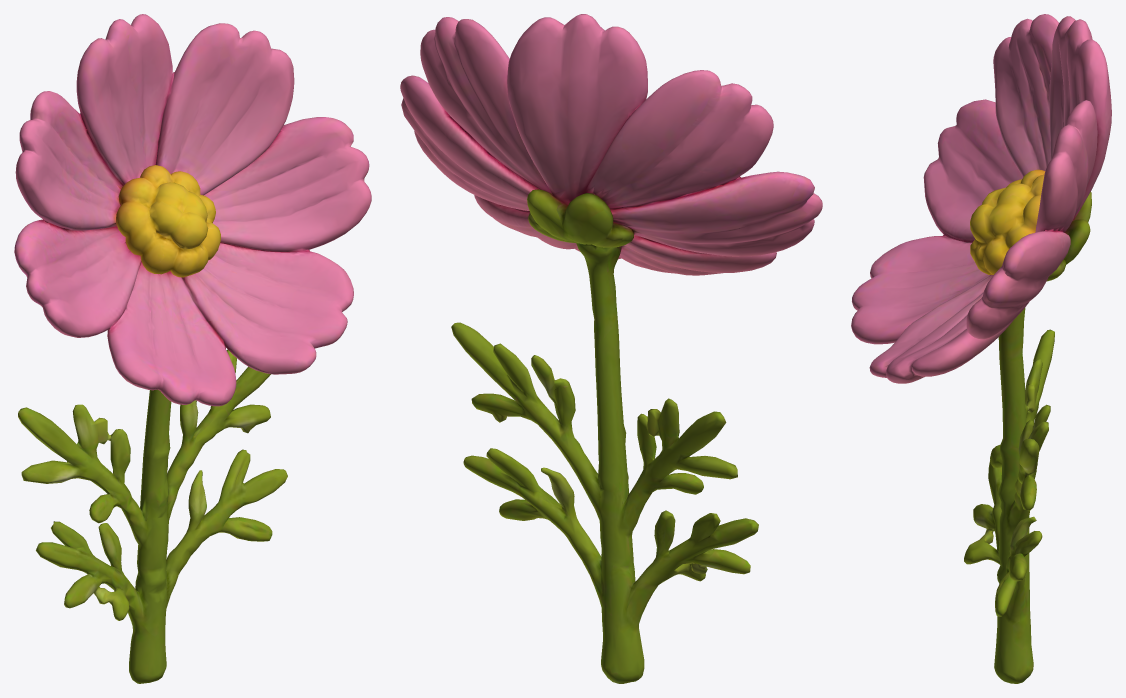
Rendered from cosmos_s5.glb.
3 views of the same model, side by side, from view 1: azimuth 30°, elevation 25°; view 2: azimuth 150°, elevation 25°; view 3: azimuth 270°, elevation 25° (orthographic). The views are drawn at different scales.
Size of the model in its own units: 0.5982 by 1 by 0.357.
Materials: 1 (1 with a texture image).
